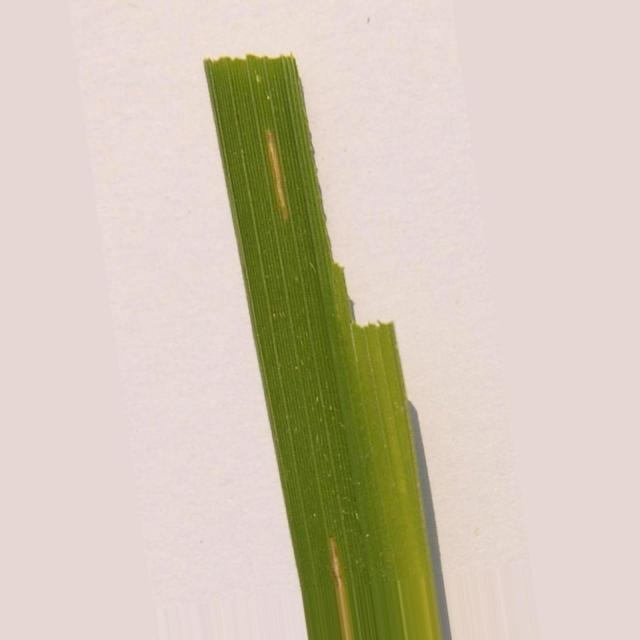Bacterial_Leaf_Blight: (332, 540, 351, 640), (269, 135, 289, 218)
